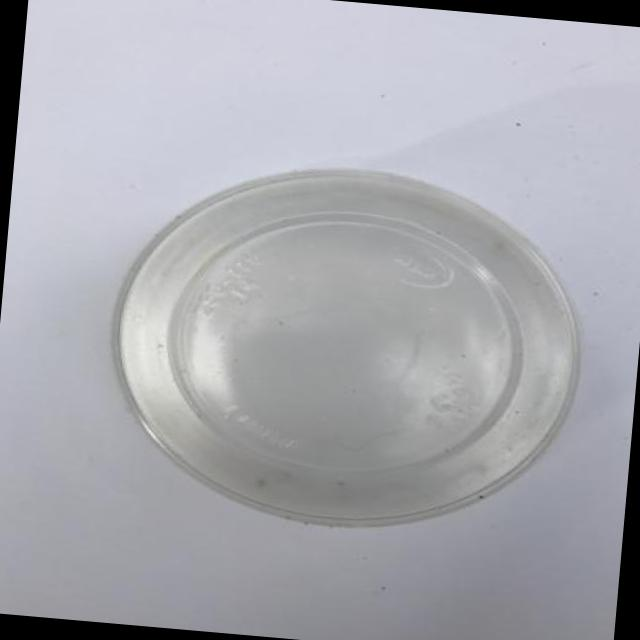plastic: (122, 150, 584, 544)
